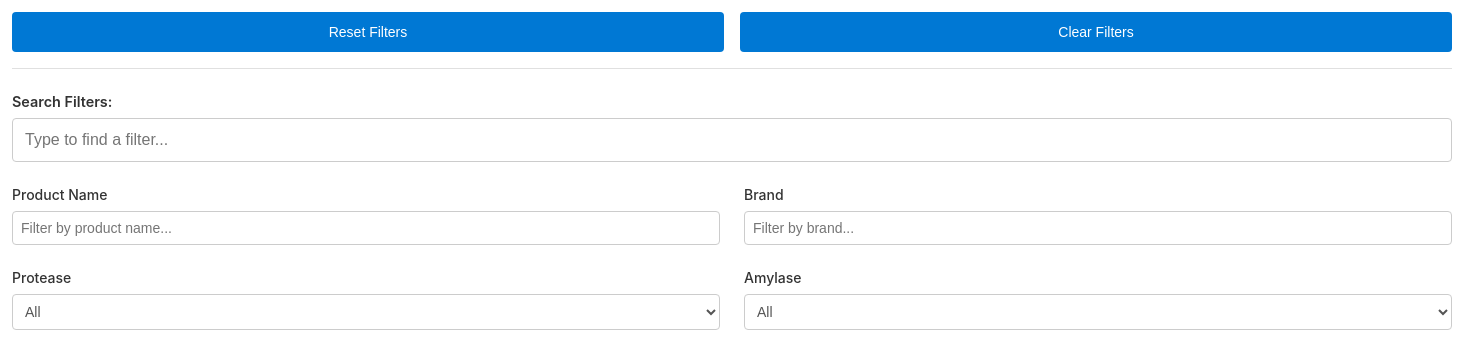
Test case: FilterDrawerContent › should filter fields based on search term
This screenshot has width=1464, height=347.
Type "prot" into the field labelled "Search Filters:" at (732, 140), box [12, 118, 1452, 162]
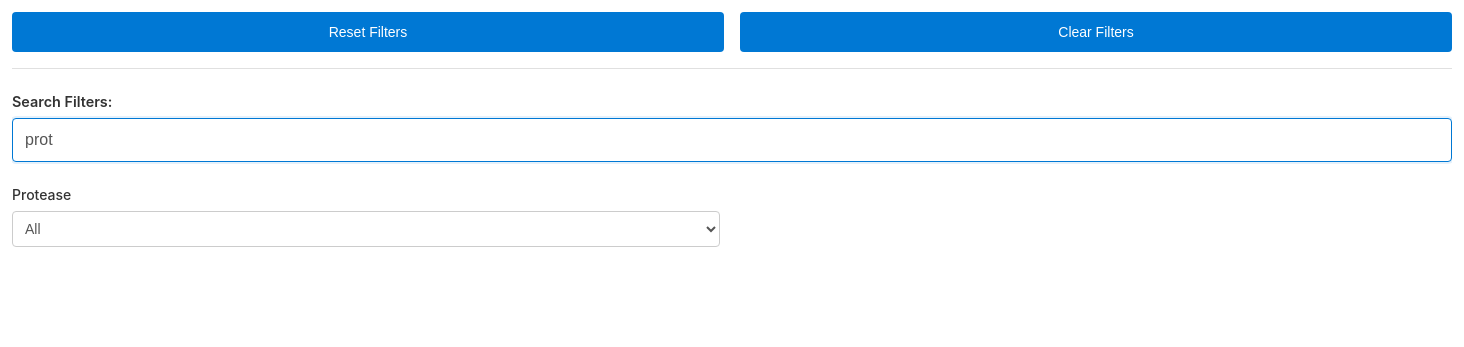
expect the dropdown labelled "Protease" is shown: met, box [12, 211, 720, 247]
expect the label labelled "Amylase" is gone: met
expect the label labelled "Brand" is gone: met
